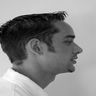ear: (24, 35, 48, 60)
